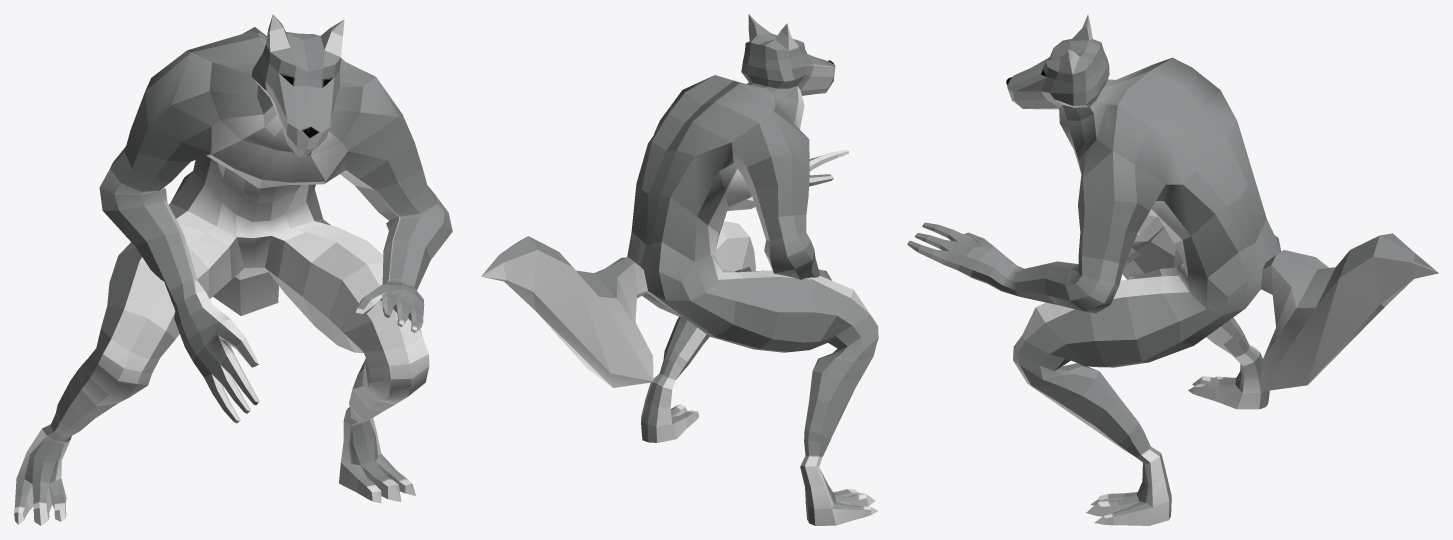
File: WolfAttack(87).obj
The picture shows the model from 3 angles, left to right: view 1: azimuth 30°, elevation 25°; view 2: azimuth 150°, elevation 25°; view 3: azimuth 270°, elevation 25°; orthographic projection. The views are drawn at different scales.
Parts seen in each view (by area): view 1: Box001; view 2: Box001; view 3: Box001.
Part boxes in pixels (x1=…): Box001: x1=14, y1=14, x2=452, y2=525; Box001: x1=481, y1=14, x2=878, y2=525; Box001: x1=907, y1=14, x2=1438, y2=525.
Bounding box in the file's own units: 84.26 × 115 × 124.
